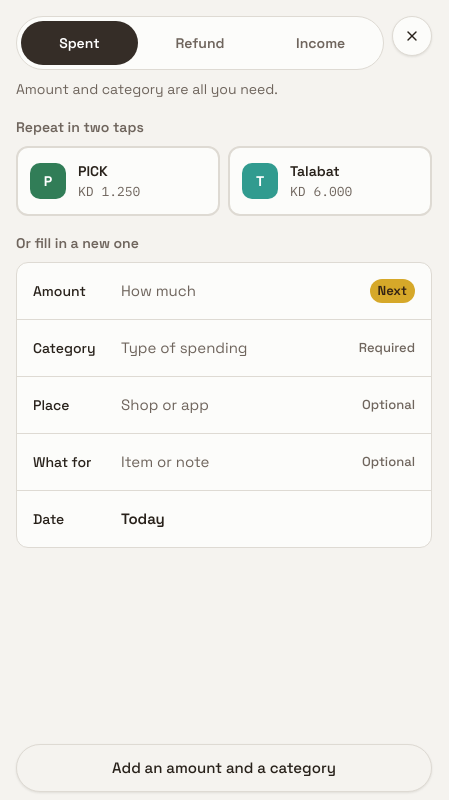
Test: /log never overwrites her choices (MOB-R73 E2) › her category survives picking a place from search
Check: the button "P PICK KD 1.250" is shown, box x1=16 y1=146 x2=220 y2=216
Step 1. Click the button "Category Type of spending Required" → (224, 348), box x1=17 y1=320 x2=431 y2=376
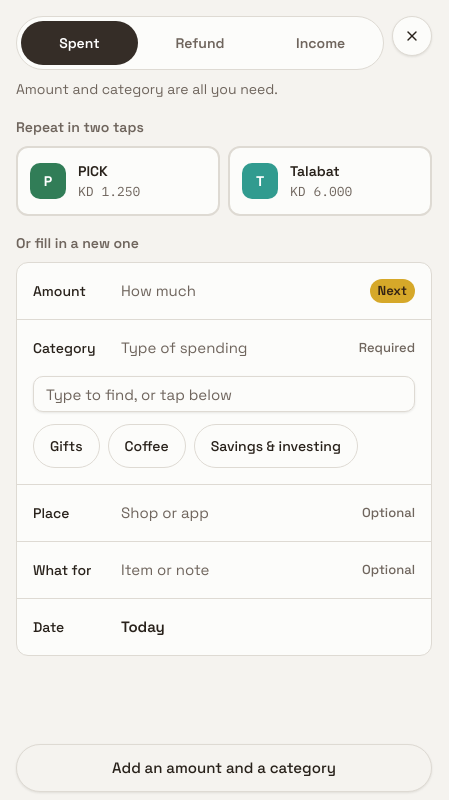
Step 2. Click the button "Gifts" → (66, 446), box x1=33 y1=424 x2=100 y2=468
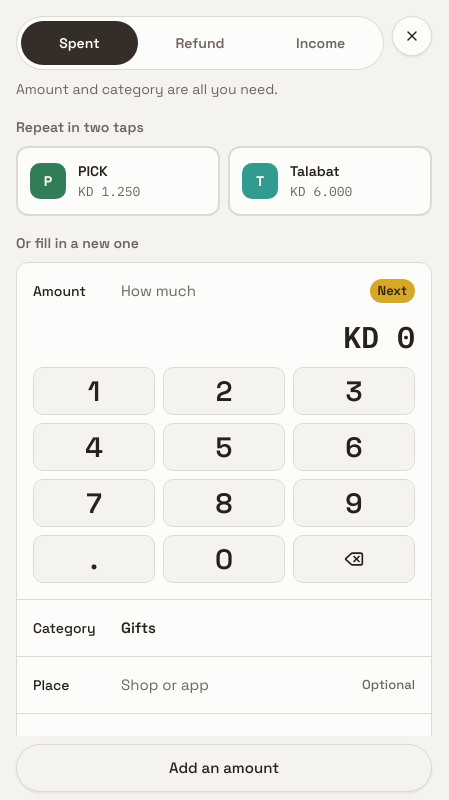
Step 3. Click the button "Place Shop or app Optional" → (51, 685), box x1=17 y1=657 x2=431 y2=713
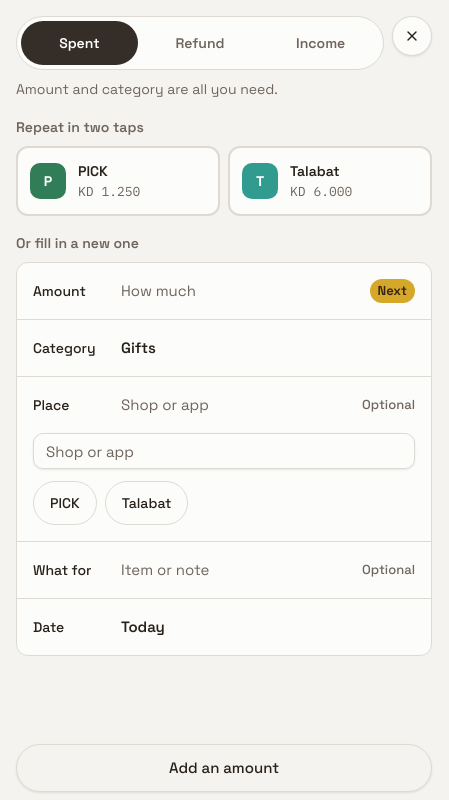
Step 4. Click the button "Talabat" → (147, 503), box x1=105 y1=481 x2=188 y2=525
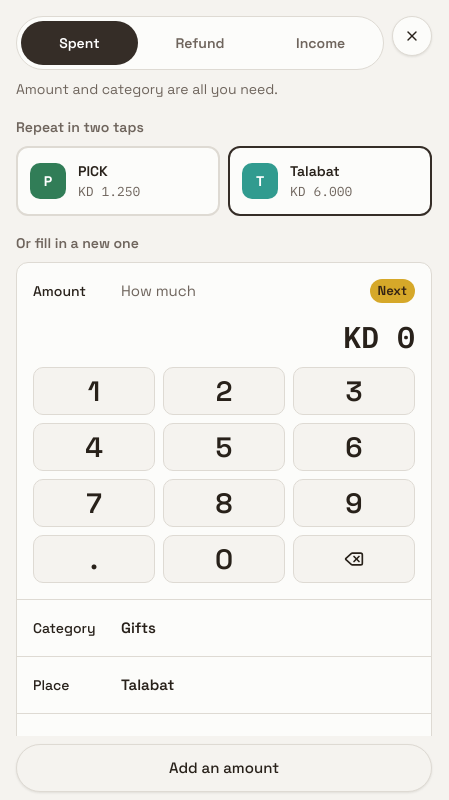
Check: the button "Category Gifts" is shown, box x1=17 y1=600 x2=431 y2=656
Check: the button "Place Talabat" is shown, box x1=17 y1=657 x2=431 y2=713
